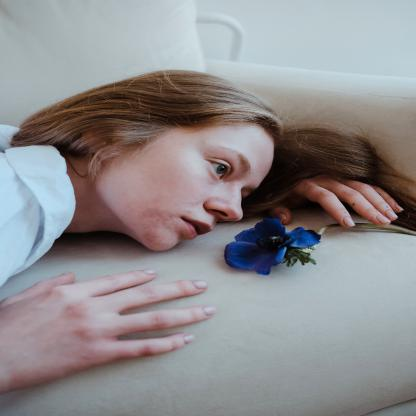Eye: (204, 156, 235, 182)
Mouth: (174, 211, 216, 239)
Nose: (203, 186, 247, 222)
